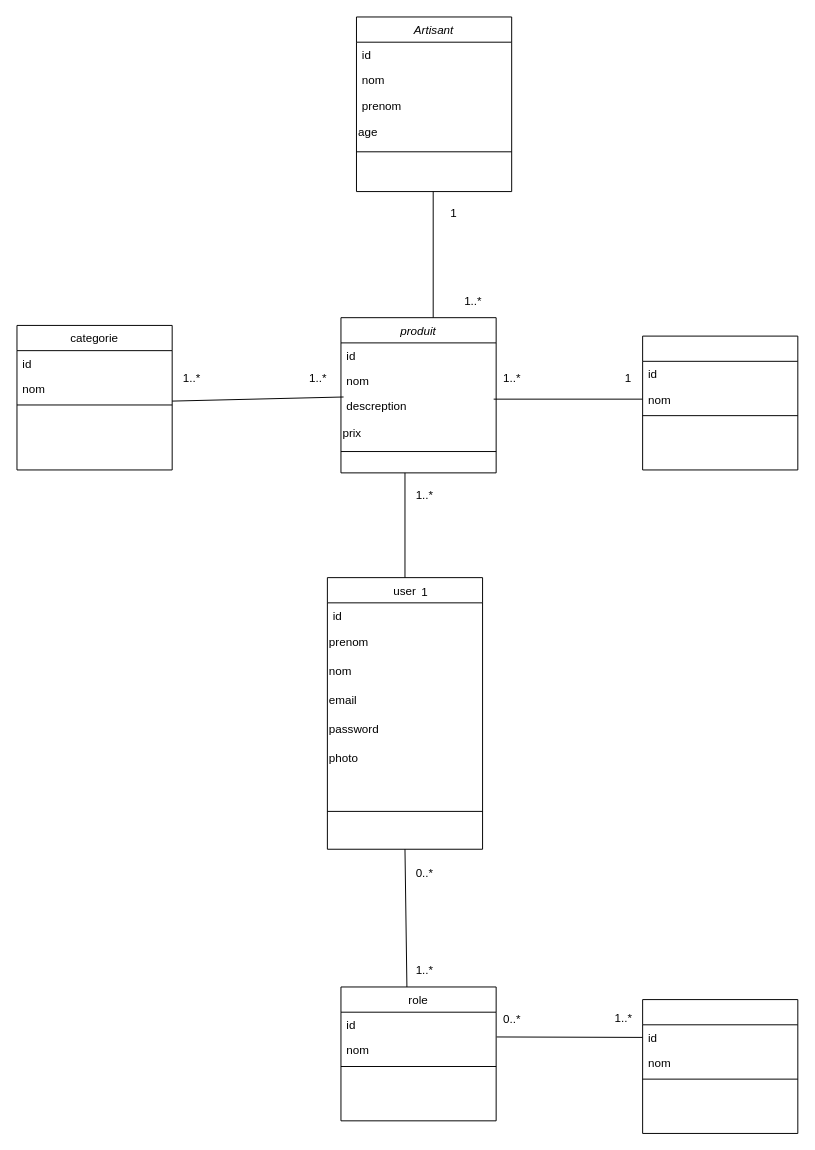
Some shapes in this 815 by 1150 pixel diagram are drawn without their labels. The shapes that lost their labels are listed below. From the top down, each one's box as (x1, y1, x2, y2) in pixels, then its label:
(642, 335, 798, 470): materiel
(642, 999, 798, 1133): permission
